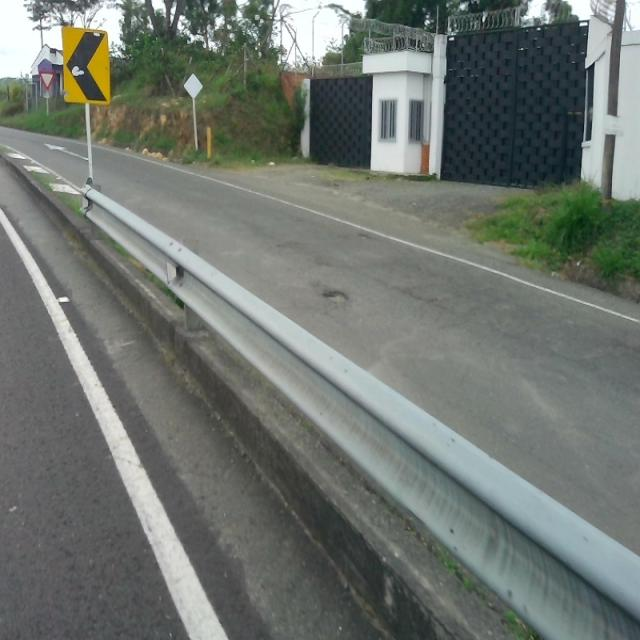DITCH: (5, 116, 638, 638), (1, 142, 639, 639)
